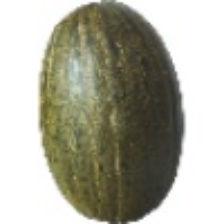honeydew: (57, 26, 201, 195)
